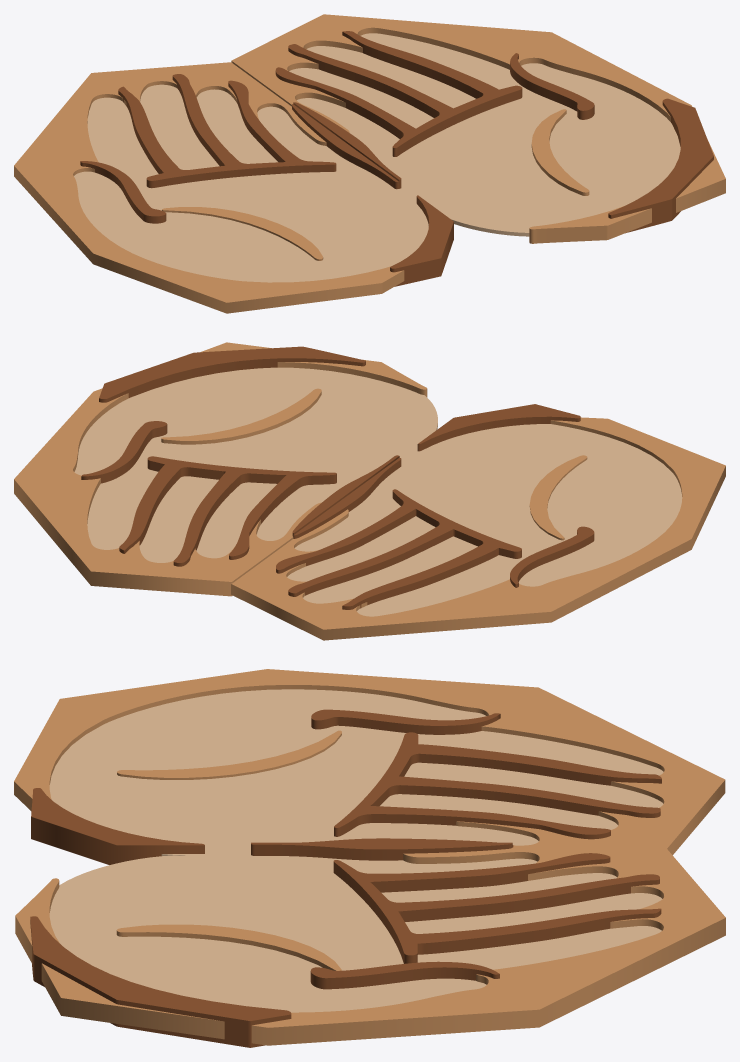
The model's file is emoji_u1f932_1f3fc.glb.
The picture shows the model from 3 angles, top to bottom: view 1: azimuth 30°, elevation 25°; view 2: azimuth 150°, elevation 25°; view 3: azimuth 270°, elevation 25°; orthographic projection. The views are drawn at different scales.
Visible parts, largest first — view 1: emoji_u1f932_1f3fc; view 2: emoji_u1f932_1f3fc; view 3: emoji_u1f932_1f3fc.
Boxes of the visible parts, x1,y1,x2,y2 form: emoji_u1f932_1f3fc: [14, 14, 725, 313]; emoji_u1f932_1f3fc: [14, 342, 725, 640]; emoji_u1f932_1f3fc: [14, 669, 725, 1047].
Size of the model in its own units: 0.0347 by 0.0012 by 0.0289.
